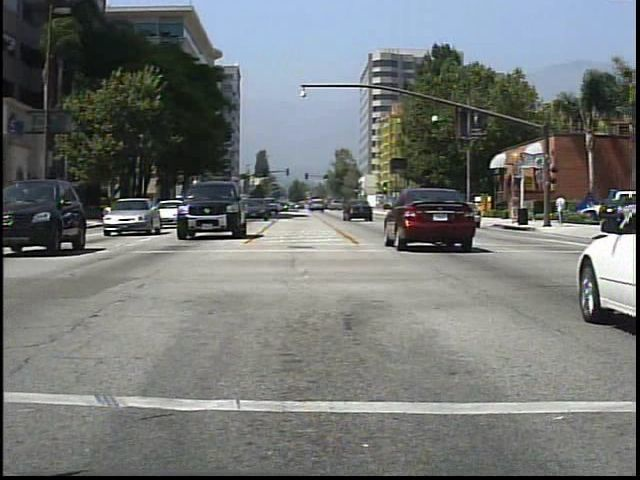person: (555, 191, 570, 226), (509, 191, 522, 225)
